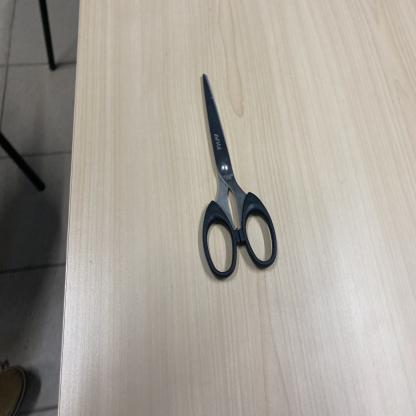scissors: (200, 74, 278, 280)
